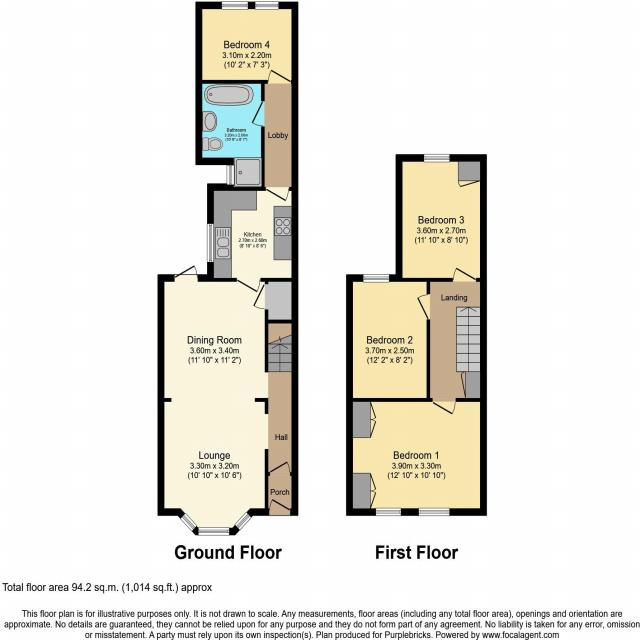DOOR: (429, 398, 459, 417), (251, 282, 268, 313), (234, 277, 263, 294), (173, 264, 199, 282), (268, 497, 292, 516), (250, 98, 265, 128), (265, 187, 292, 203), (267, 459, 291, 476), (267, 67, 291, 84), (415, 293, 430, 320), (451, 266, 476, 282)
ROOM: (157, 261, 298, 535), (346, 398, 487, 516), (396, 154, 487, 282), (346, 274, 430, 402), (207, 183, 299, 297), (195, 2, 299, 84), (221, 0, 249, 11)
WINDOW: (178, 511, 199, 534), (205, 221, 216, 264), (233, 510, 254, 532), (422, 151, 451, 165), (197, 525, 230, 537), (362, 272, 391, 284), (418, 507, 451, 517), (254, 0, 279, 11), (375, 507, 402, 517), (226, 162, 235, 186)
